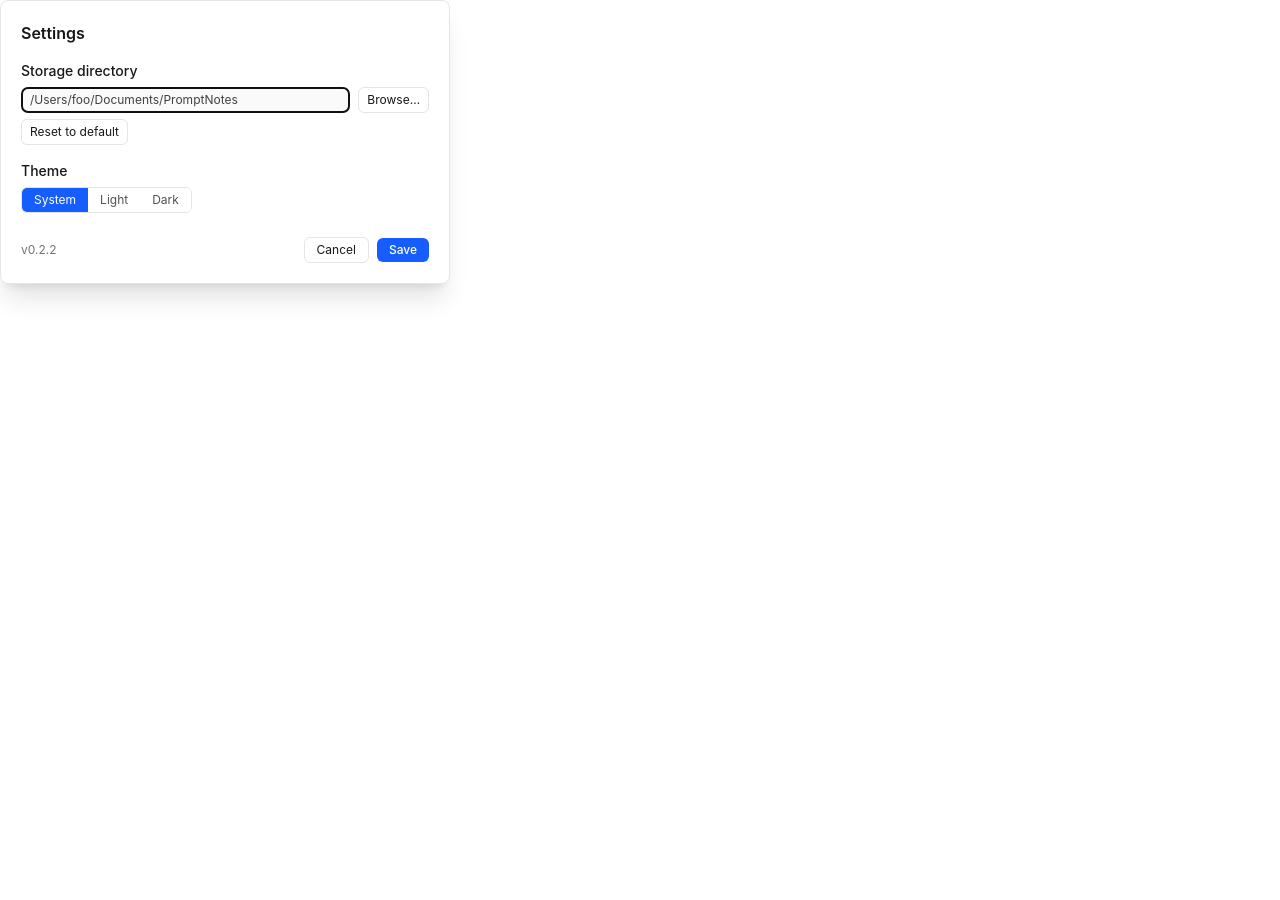
Test case: widget:widget-settings-modal spec#invariants-storage-dir-reset › spec#tp-sm-reset-sets-draft (I-SM12) — default 取得後に押すと storage_dir 表示が default に変わる
Click the button "Reset to default".
click(74, 132)  # box [21,119,128,145]
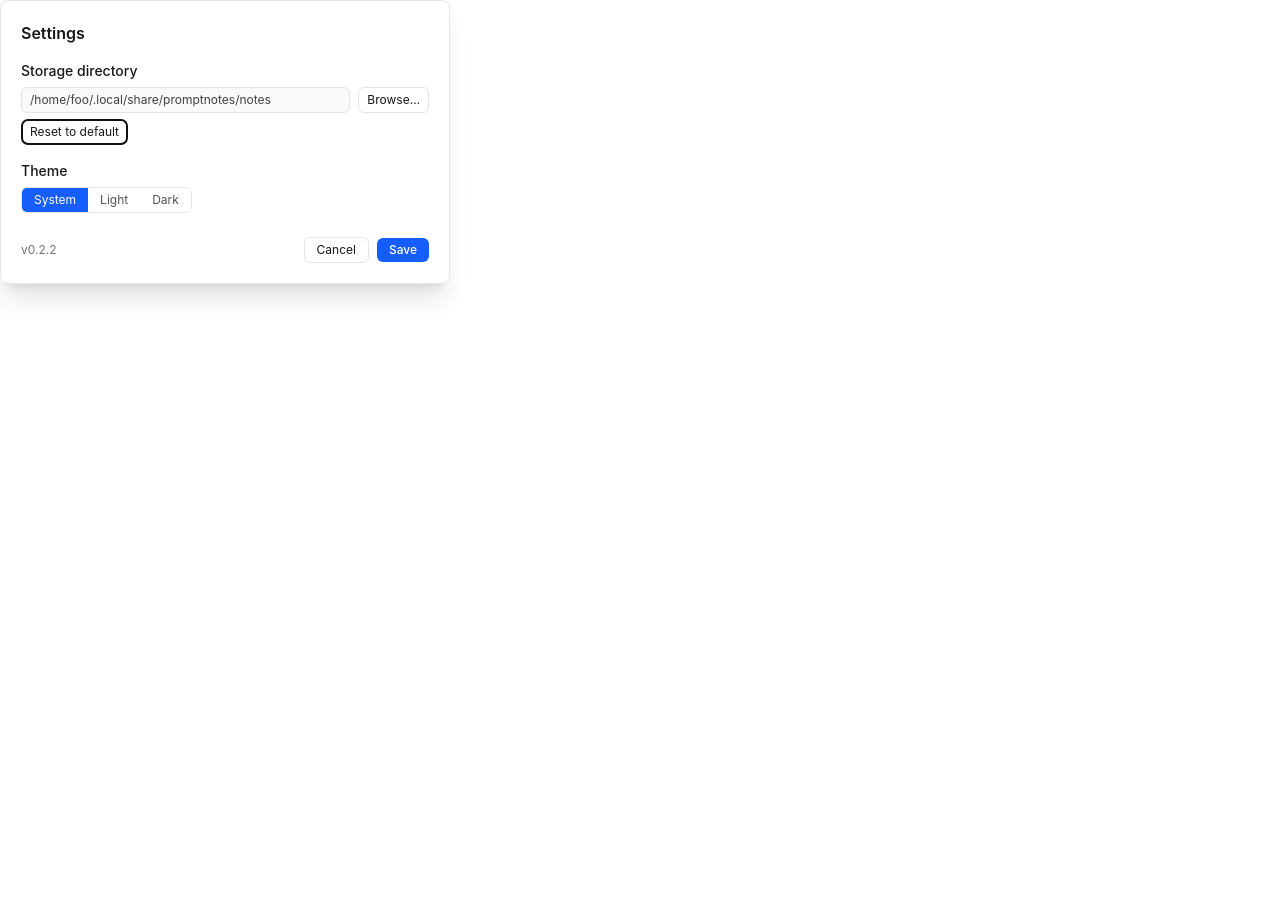
Result: the field named "Storage directory" holds "/home/foo/.local/share/promptnotes/notes" at [21,87,350,113]
